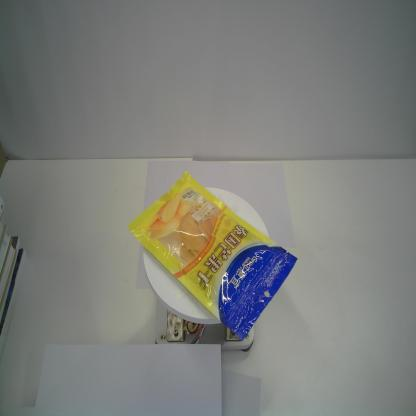Dried Fruit: (130, 168, 300, 343)
